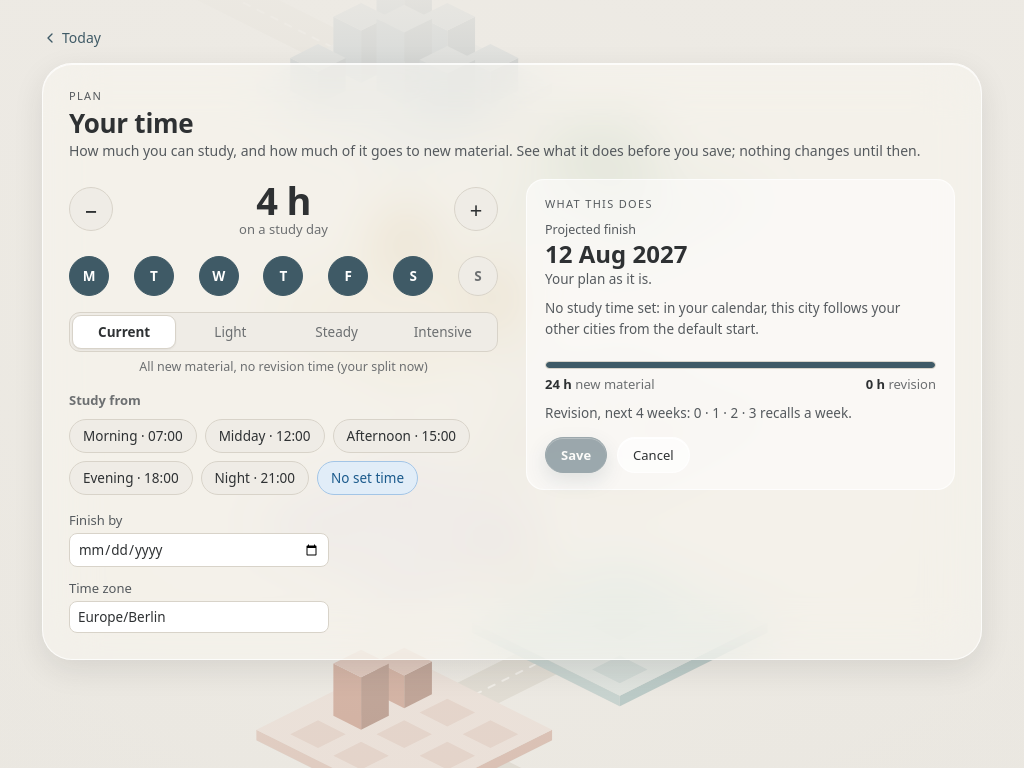
Test: Your time › says what is wrong with a choice and does not let it be saved
expect the text "Your plan as it is." is shown: met, box [545,270,652,288]
Replace the text in the field labelled "Time zone" with "Mars/Olympus". click: (199, 617)
box: [69,601,329,633]
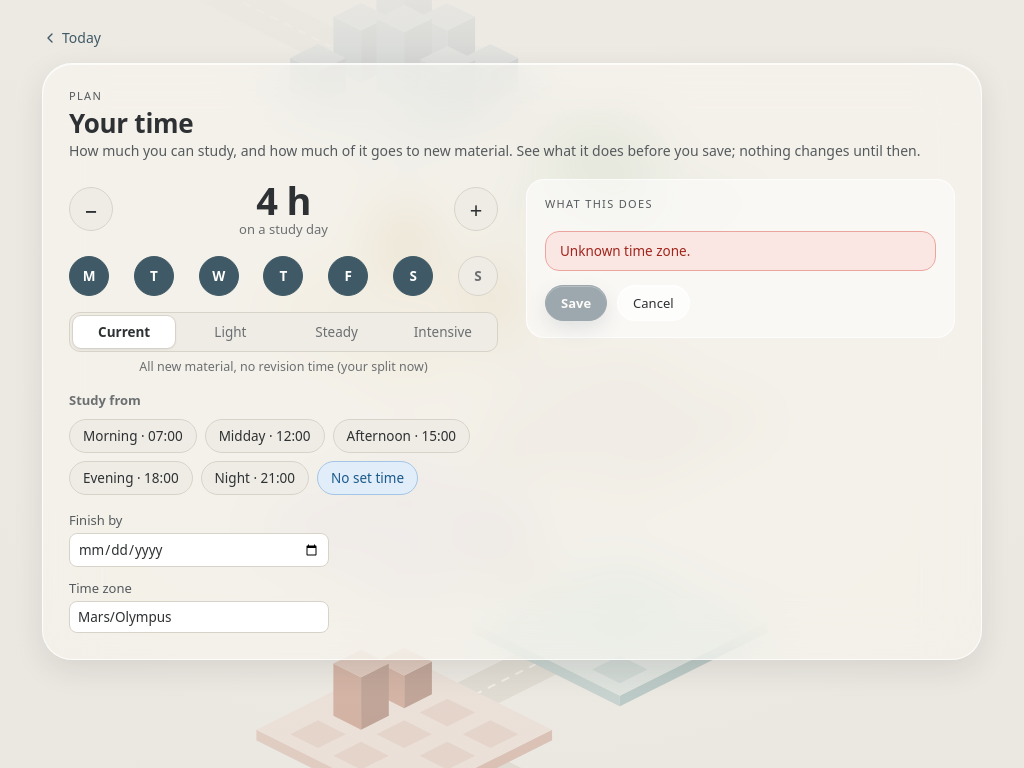
expect the button "Save" is disabled: met, box [545,284,607,320]
expect the message reads "Unknown time zone.": met, box [560,242,690,260]
